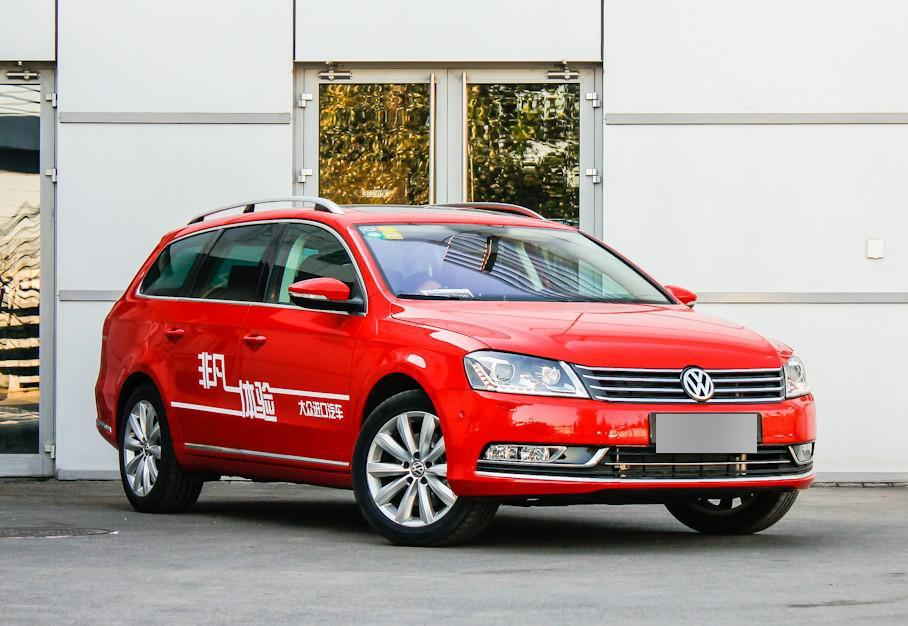Wagon: (93, 195, 821, 548)
